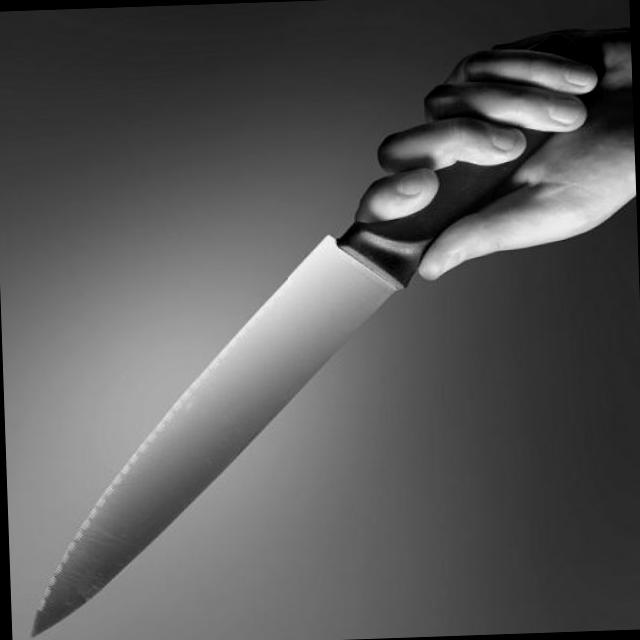knife: (0, 33, 629, 639)
